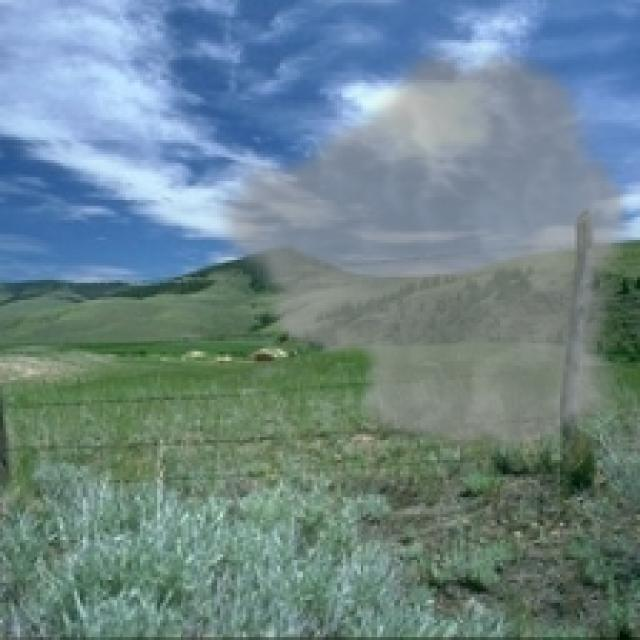Smoke: (208, 37, 634, 460)
